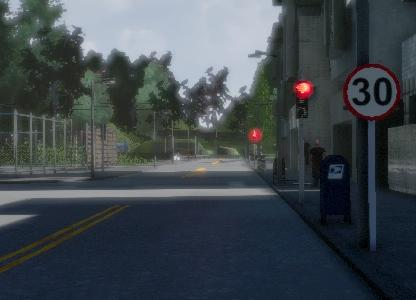Speed_30: (342, 60, 402, 123)
